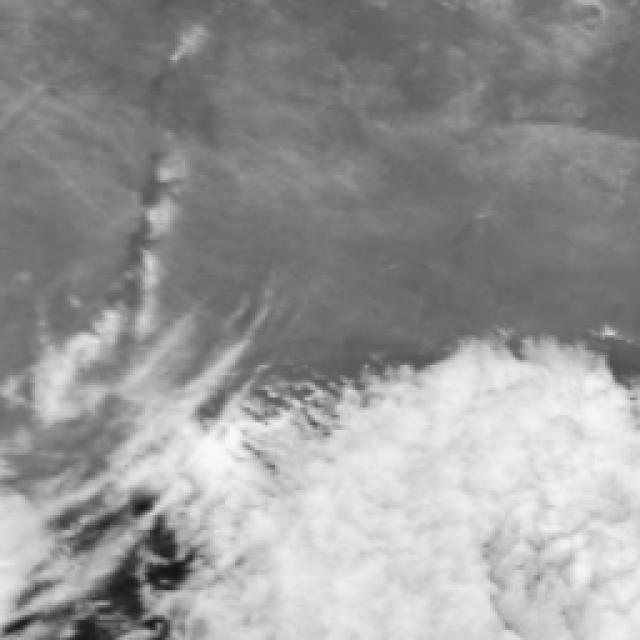CB: (390, 400, 640, 555), (260, 510, 468, 640)
